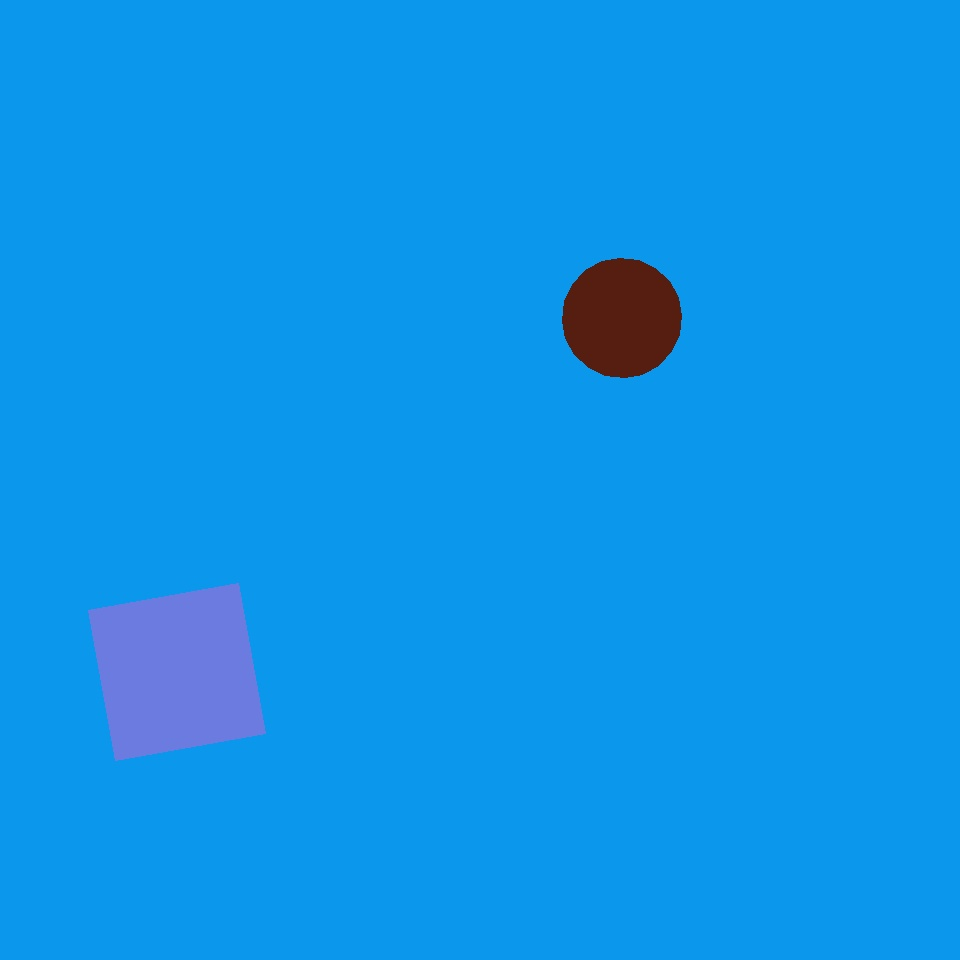square: (615, 245, 863, 492), (88, 584, 266, 760)
triangle: (281, 627, 602, 948), (110, 1, 404, 295), (562, 258, 682, 377), (36, 629, 145, 738)
